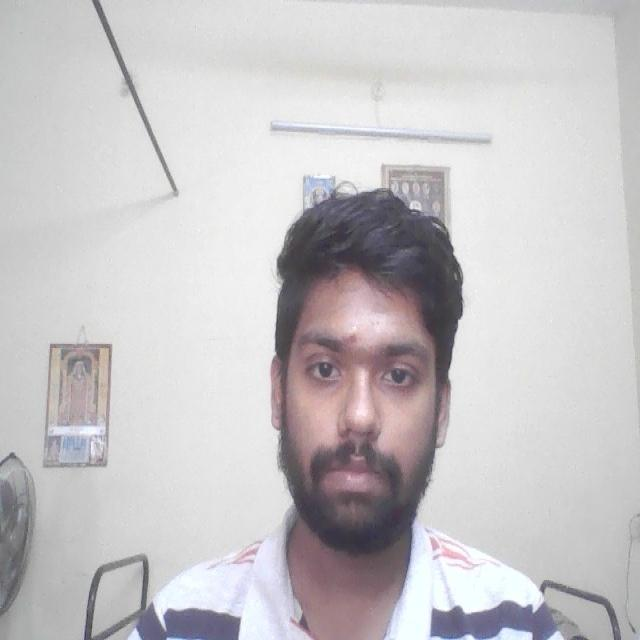Focused: (270, 284, 450, 530)
